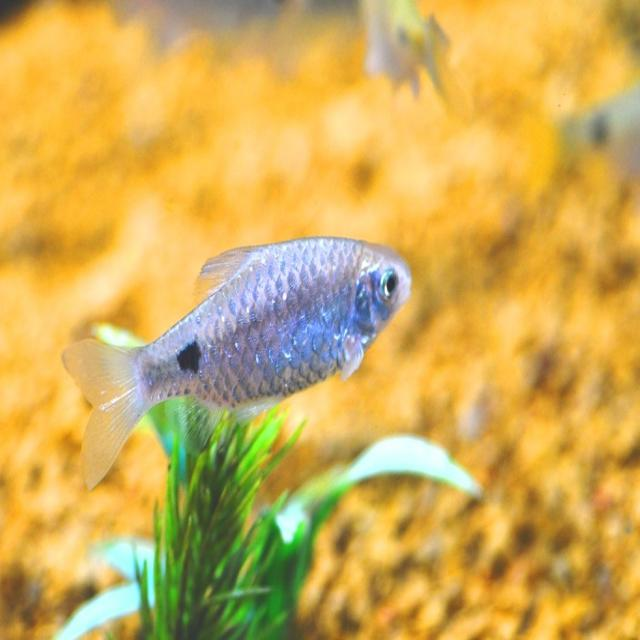Black-Spotted-Barb: (65, 194, 435, 501)
